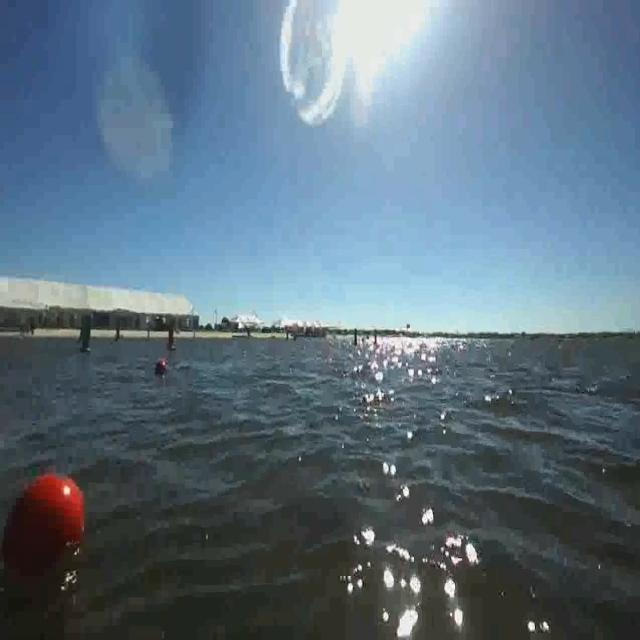green-column-buoy: (77, 314, 94, 356)
red-buoy: (4, 470, 82, 561), (157, 362, 166, 376)
red-column-buoy: (167, 328, 177, 352)
